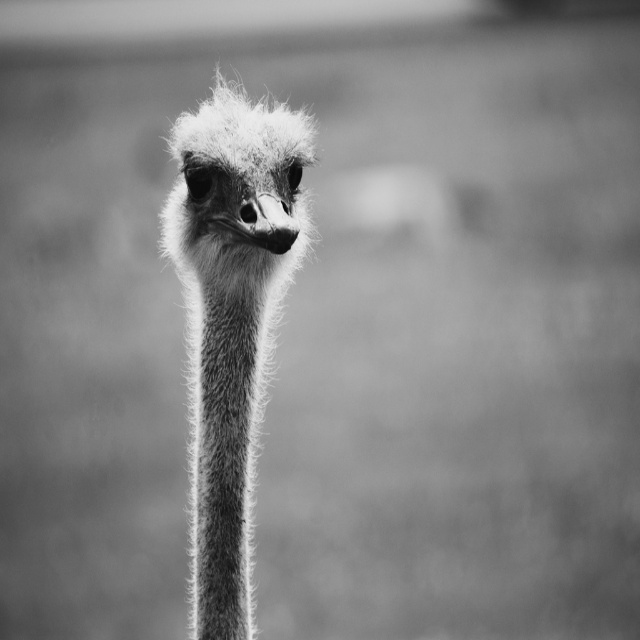Ostrich: (154, 80, 318, 639)
